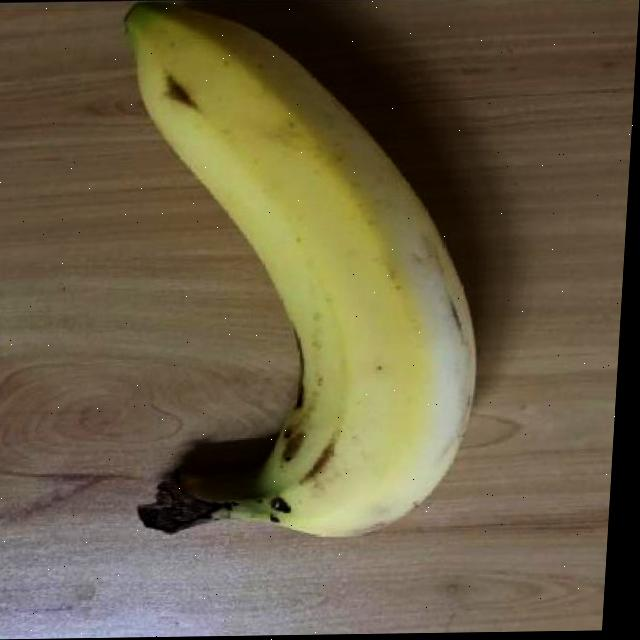banana: (85, 0, 506, 560)
